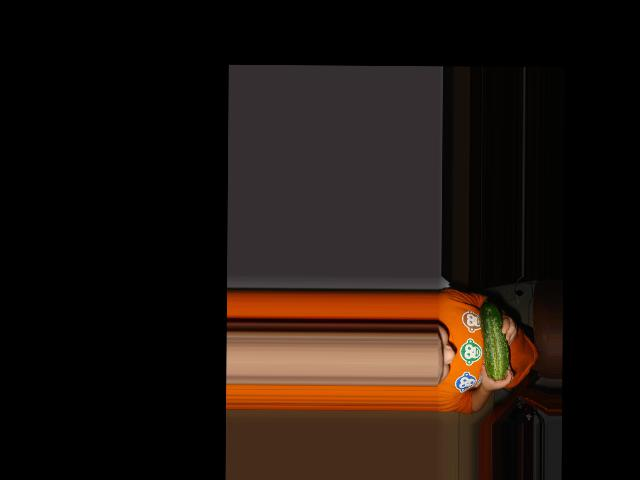cucumber: (479, 301, 509, 381)
